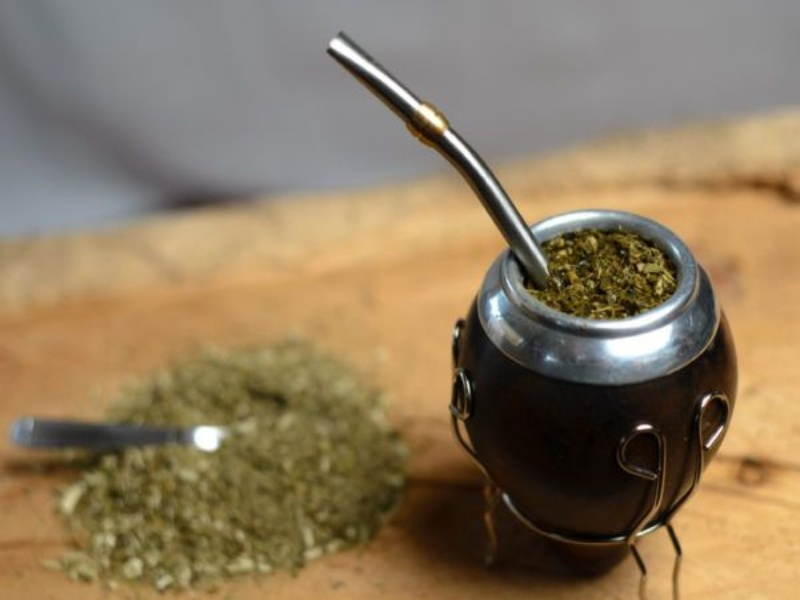guampa: (287, 14, 745, 587)
